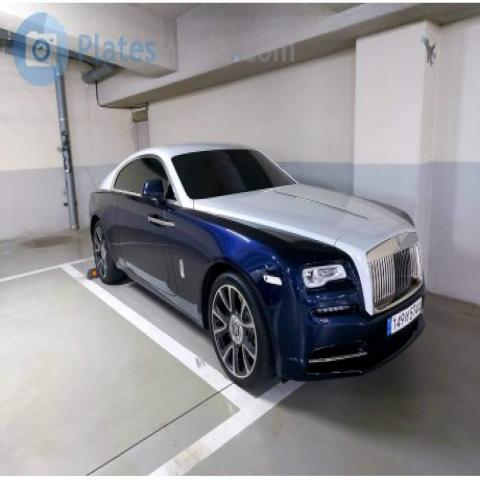LP: (380, 285, 426, 341)
